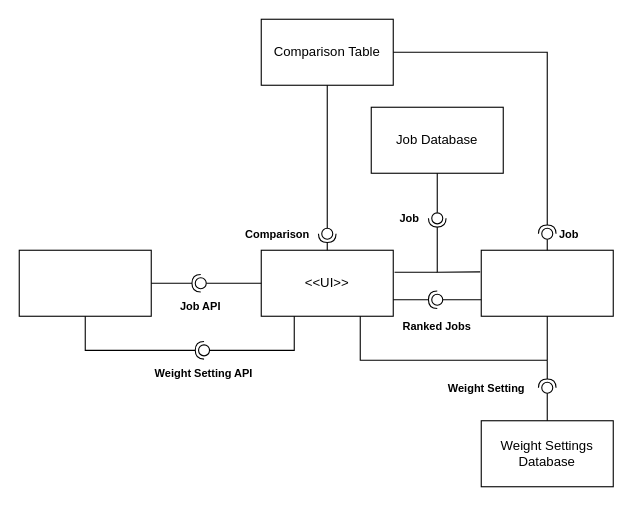
Image size: 633x506. Some labels were removed from this diagram. The shapes that lost their labels are listed below. From the top down, each one's centre as x and y in pixels, then its label:
At [84,282]: "User".
At [546,282]: "Job List".
